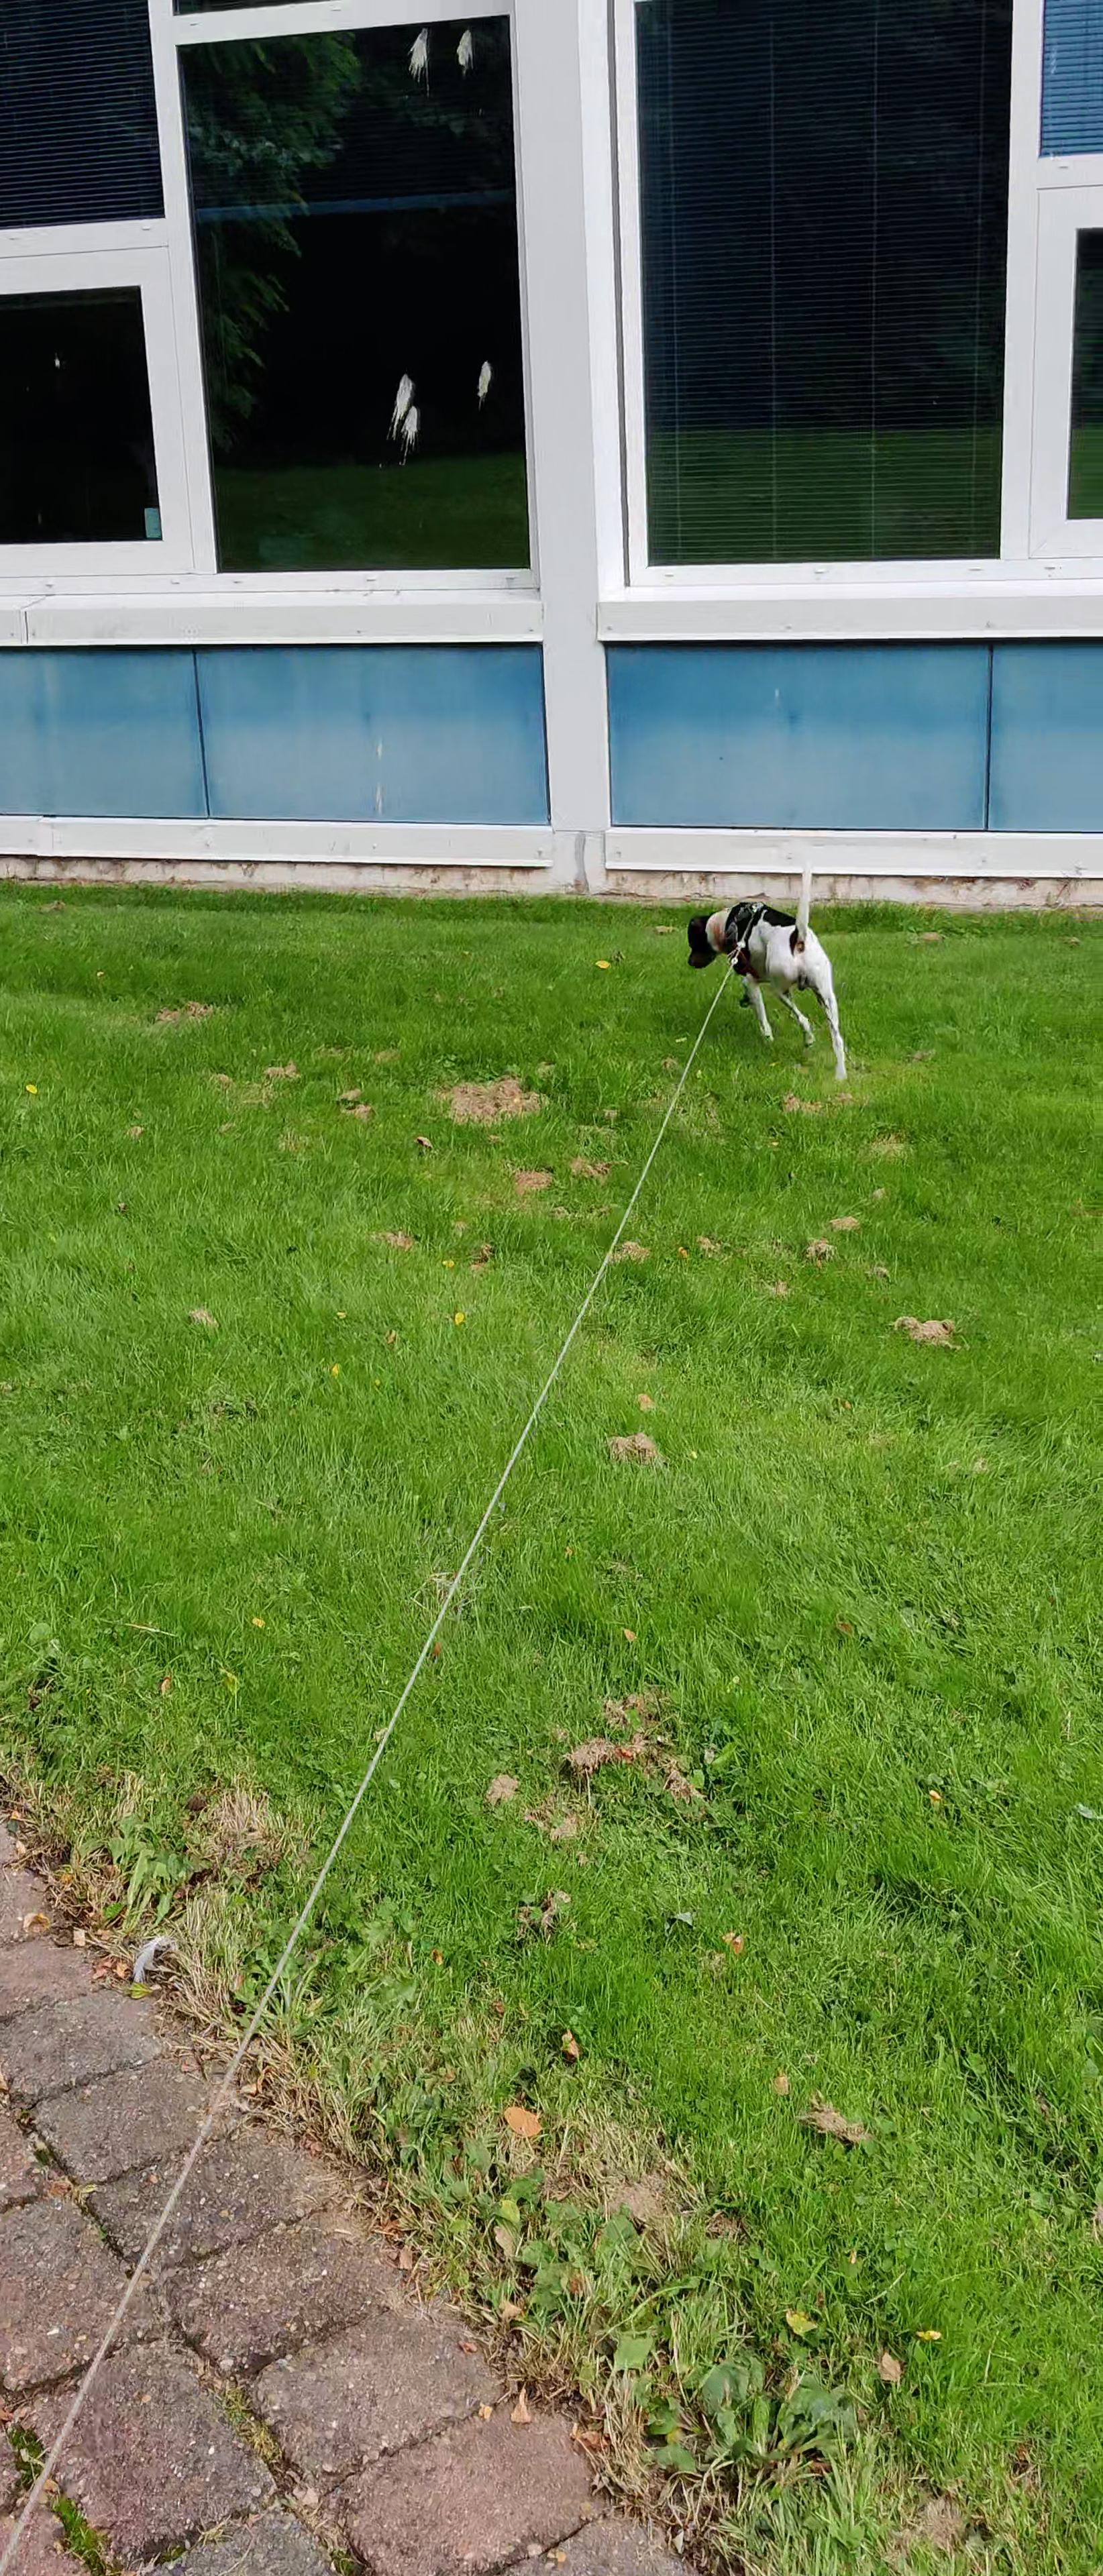Dog: (682, 853, 856, 1088)
